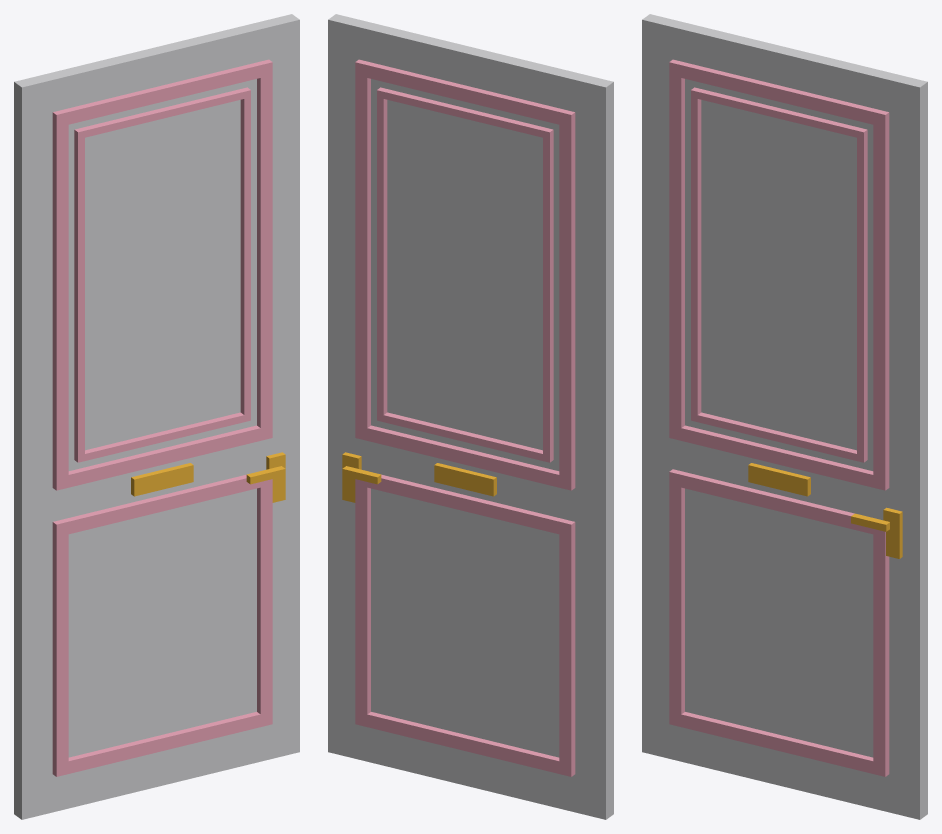
File: SM_Door_girls_104x260.fbx
3 views of the same model, side by side, from view 1: azimuth 30°, elevation 25°; view 2: azimuth 150°, elevation 25°; view 3: azimuth 330°, elevation 25° (orthographic).
Visible parts, largest first — view 1: SM_Door_girls_104x260; view 2: SM_Door_girls_104x260; view 3: SM_Door_girls_104x260.
Part boxes in pixels (x1,y1,x2,y2): SM_Door_girls_104x260: (14,14,299,819); SM_Door_girls_104x260: (328,14,613,819); SM_Door_girls_104x260: (642,14,927,819).
Bounding box in the file's own units: 1.03 × 2.59 × 0.175.
